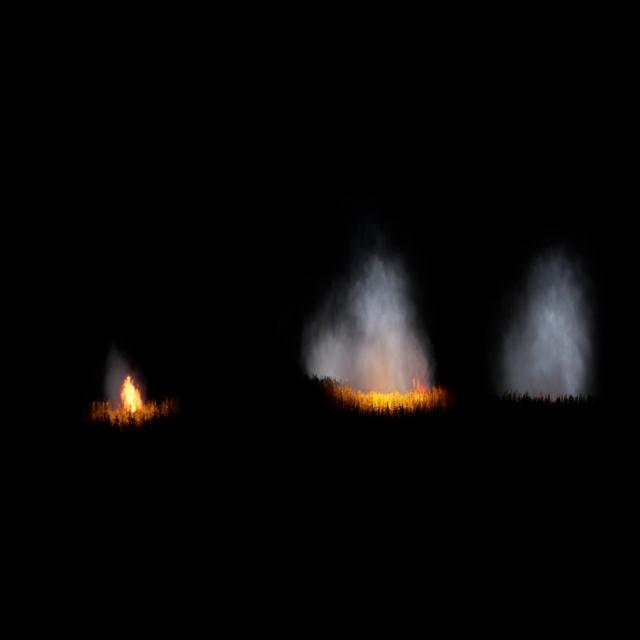fire: (331, 372, 447, 412), (119, 375, 150, 411)
smoke: (302, 242, 436, 393), (500, 241, 598, 404), (104, 346, 146, 416)
